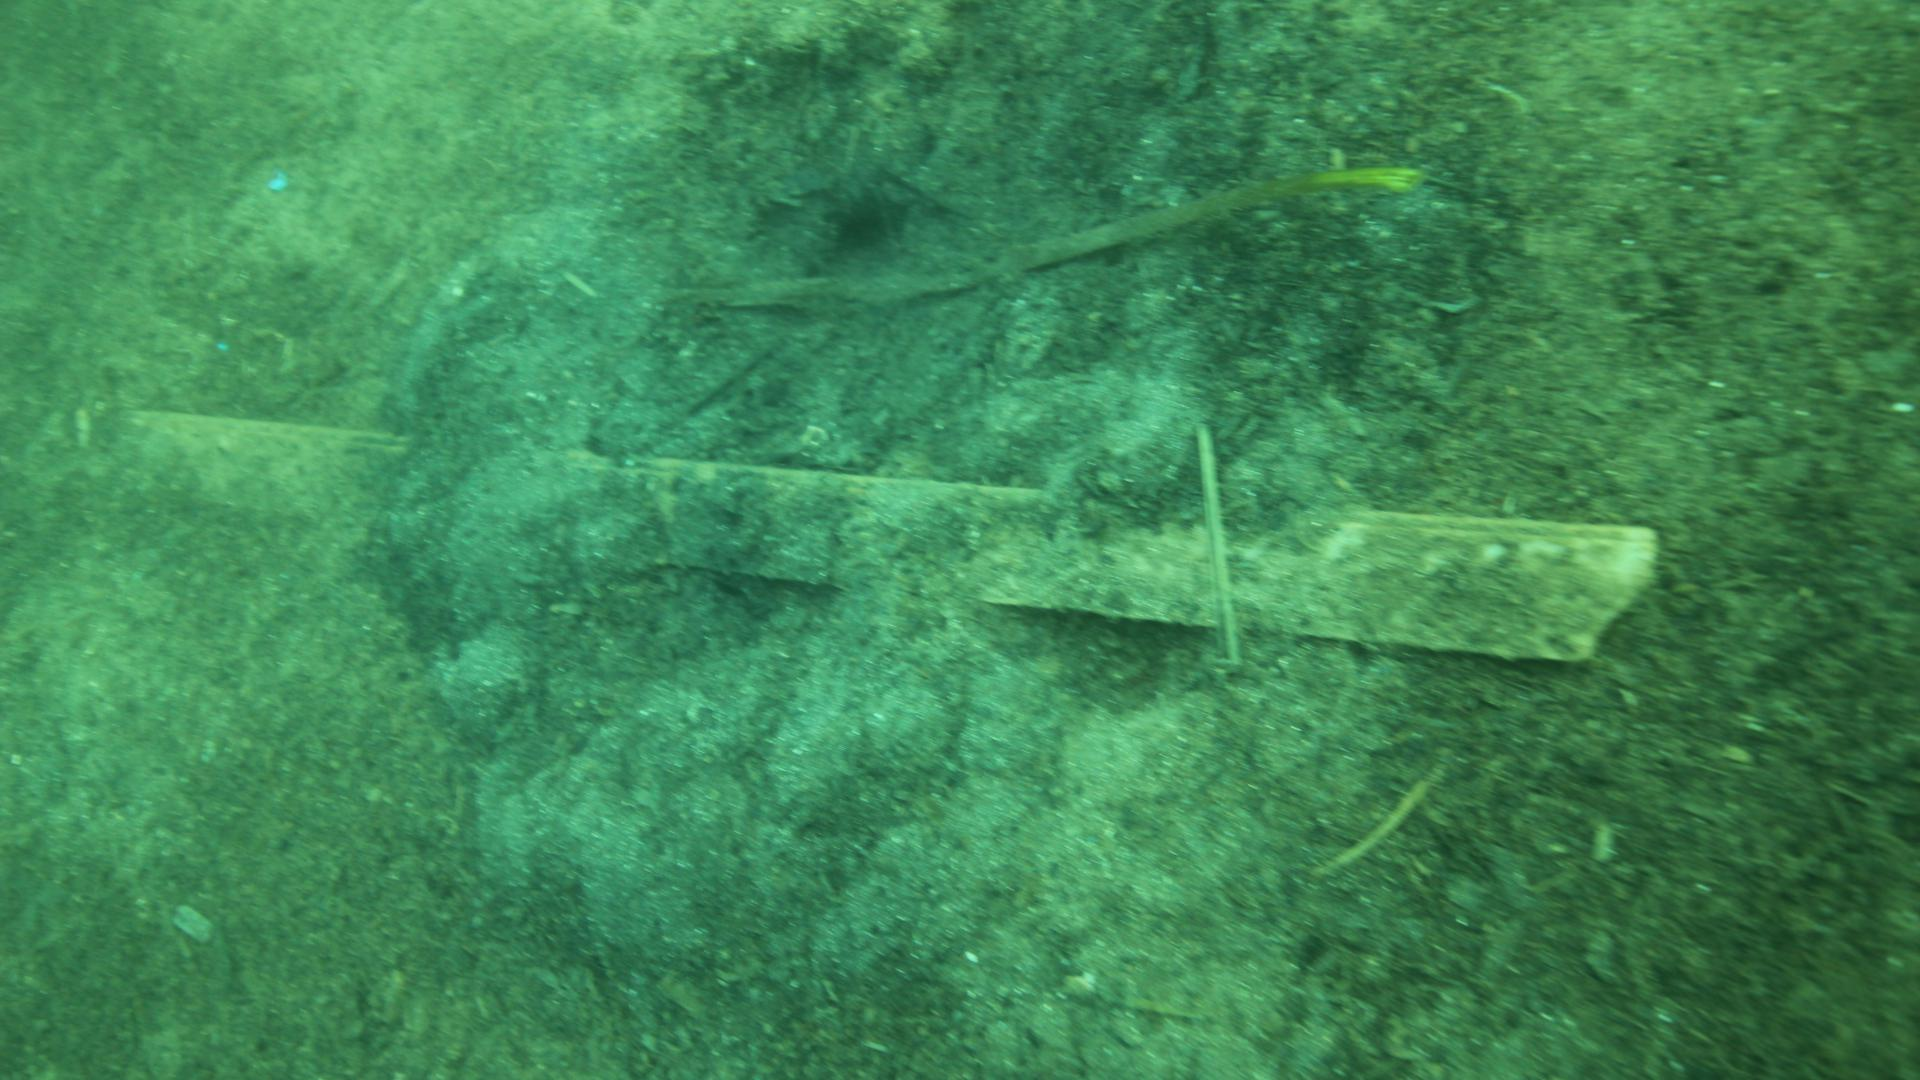wood: (146, 413, 1656, 665)
